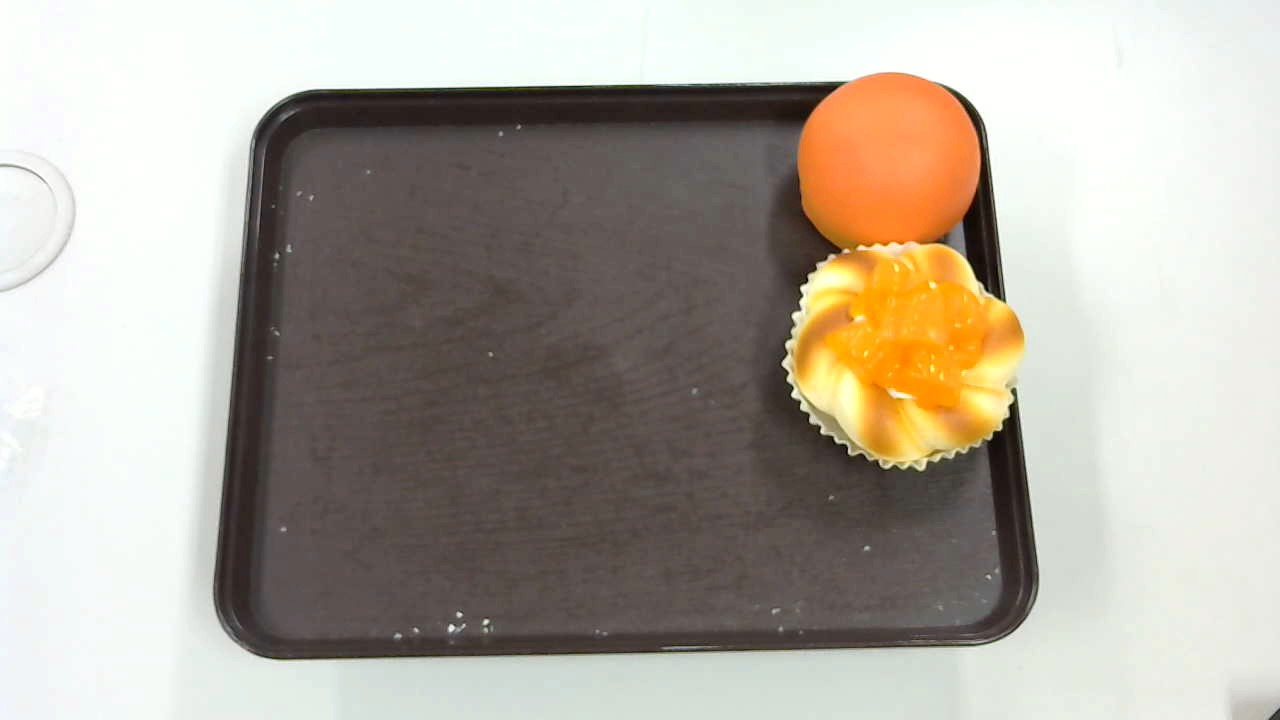bun: (798, 73, 981, 255)
mango tart: (783, 241, 1026, 470)
